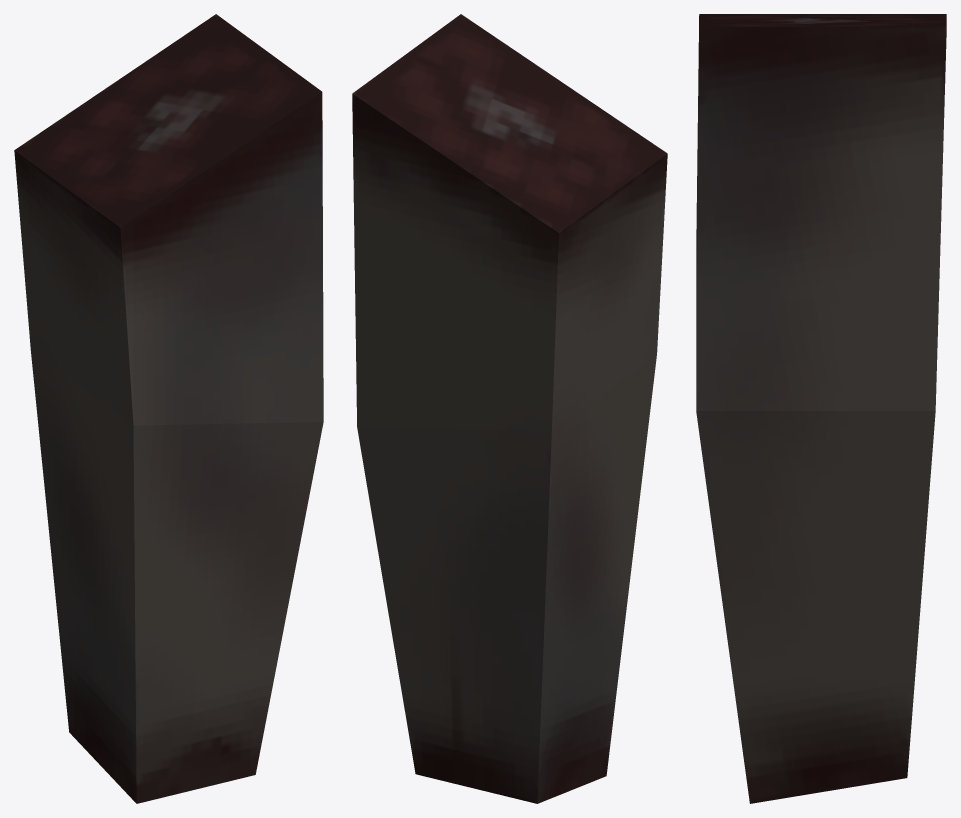
File: lthigh.fbx
The picture shows the model from 3 angles, left to right: view 1: azimuth 30°, elevation 25°; view 2: azimuth 150°, elevation 25°; view 3: azimuth 270°, elevation 25°; orthographic projection. The views are drawn at different scales.
Parts seen in each view (by area): view 1: lthigh; view 2: lthigh; view 3: lthigh.
Part boxes in pixels (left/top/right/bottom): lthigh: left=14, top=14, right=323, bottom=803; lthigh: left=352, top=14, right=667, bottom=803; lthigh: left=696, top=14, right=946, bottom=803.
Bounding box in the file's own units: 0.1577 × 0.5137 × 0.1455.
